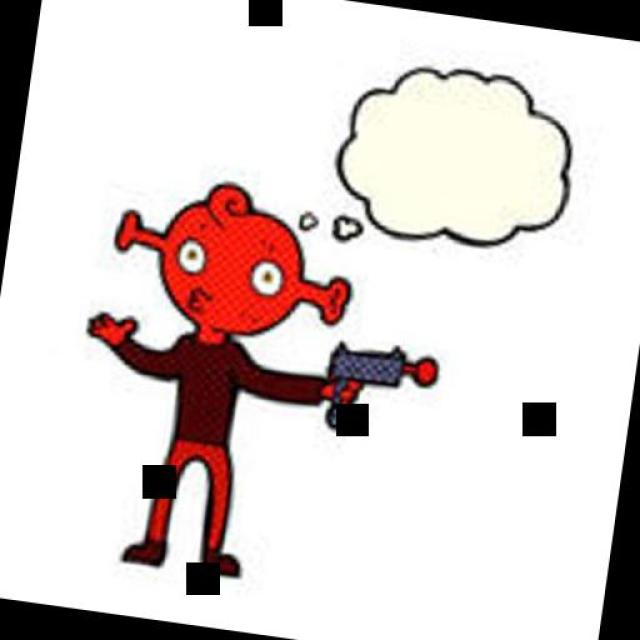gun: (320, 337, 418, 438)
